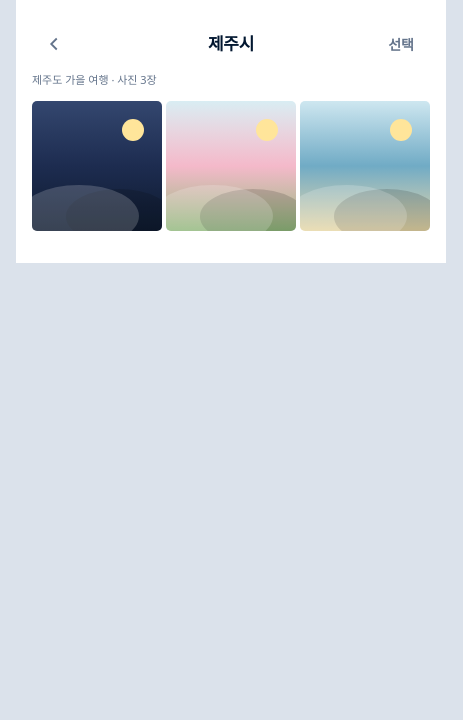
Test: PhotoListPage › 다운로드 중에는 중복 요청과 선택 변경을 막고 완료 후 다시 활성화한다
Click the button "선택" at [401, 44], box [372,24,430,64]
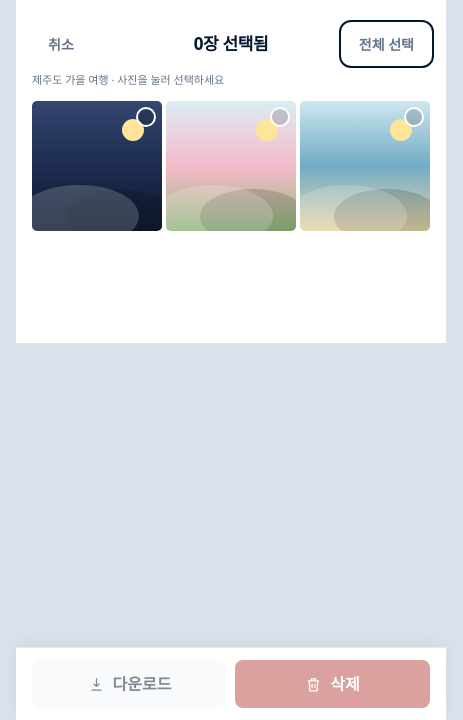
Click the button "전체 선택" at [386, 44], box [343,24,430,64]
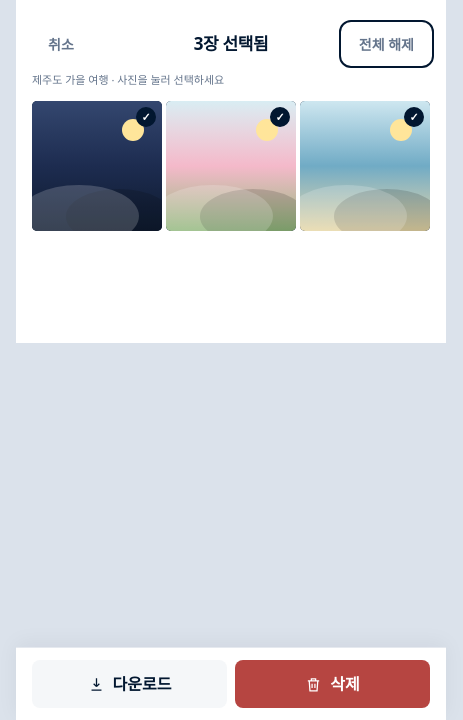
Click the button "다운로드" at [130, 684], box [32,660,227,708]
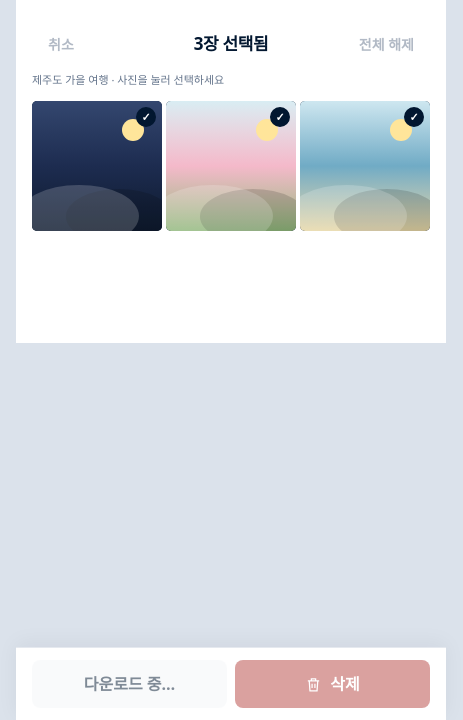
Now the button "다운로드 중…" is disabled
Now the button "삭제" is disabled, box [235,660,430,708]
Now the button "취소" is disabled, box [32,24,90,64]
Click the button "다운로드 중…" at [130, 684], box [32,660,227,708]
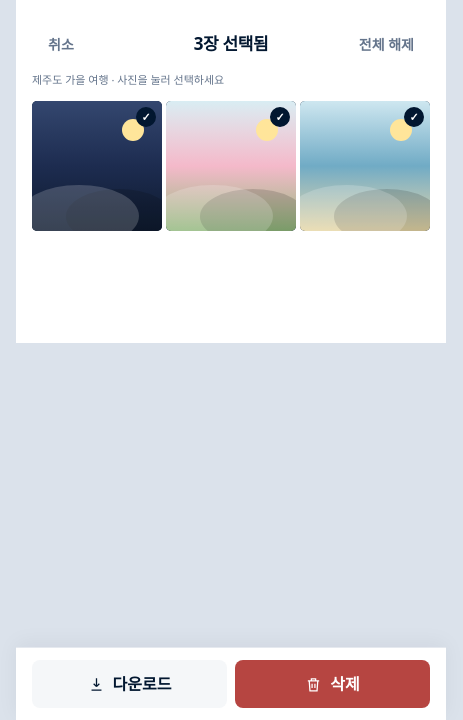
Now the heading "3장 선택됨" is shown, box [194,32,268,55]
Now the button "다운로드" is enabled, box [32,660,227,708]
Now the button "취소" is enabled, box [32,24,90,64]
